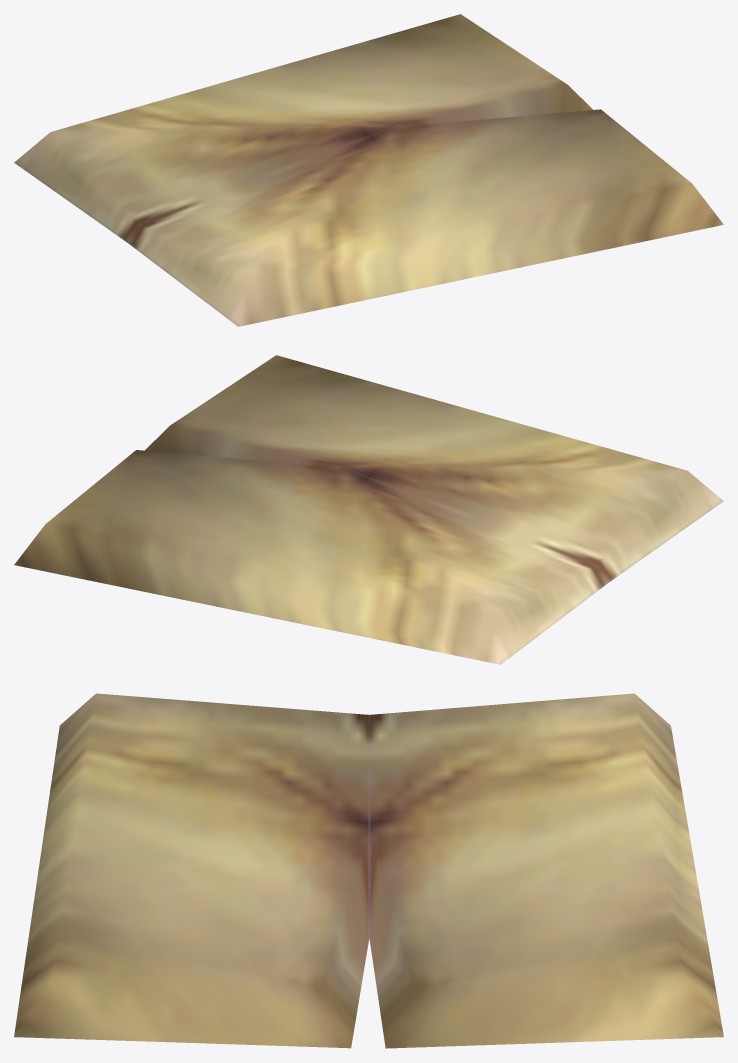
The model's file is foldedpantsbrown.obj.
3 views of the same model, one above another, from view 1: azimuth 30°, elevation 25°; view 2: azimuth 150°, elevation 25°; view 3: azimuth 270°, elevation 25° (orthographic). The views are drawn at different scales.
Parts seen in each view (by area): view 1: foldedpantsbrown; view 2: foldedpantsbrown; view 3: foldedpantsbrown.
Part boxes in pixels (bbox=[...]): foldedpantsbrown: bbox=[14, 14, 723, 326]; foldedpantsbrown: bbox=[14, 355, 723, 664]; foldedpantsbrown: bbox=[14, 693, 723, 1048].
Size of the model in its own units: 0.5076 by 0.0509 by 0.4715.
1 material, 1 textured.
